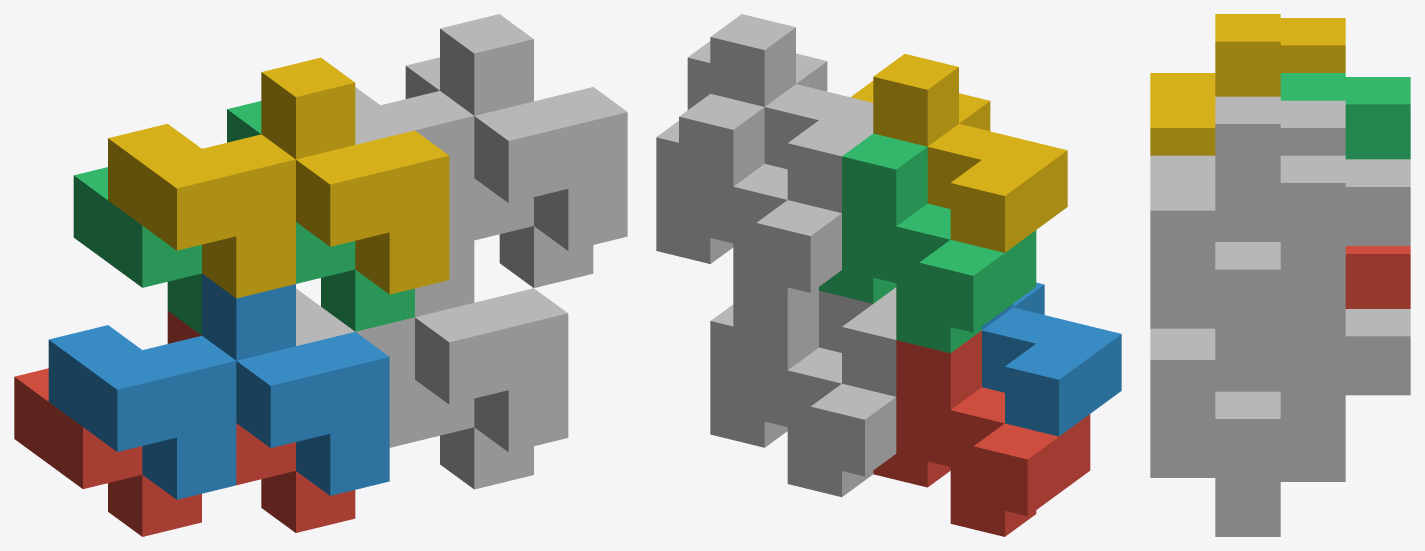
File: tiling.obj
The picture shows the model from 3 angles, left to right: view 1: azimuth 30°, elevation 25°; view 2: azimuth 150°, elevation 25°; view 3: azimuth 270°, elevation 25°; orthographic projection. The views are drawn at different scales.
Visible parts, largest first — view 1: copy_1_domain_4, copy_1_domain_2, copy_1_domain_8, copy_1_domain_6, copy_1_domain_1, copy_1_domain_3, copy_1_domain_7, copy_1_domain_5; view 2: copy_1_domain_7, copy_1_domain_3, copy_1_domain_5, copy_1_domain_1, copy_1_domain_4, copy_1_domain_8, copy_1_domain_2, copy_1_domain_6; view 3: copy_1_domain_7, copy_1_domain_5, copy_1_domain_8, copy_1_domain_4, copy_1_domain_6, copy_1_domain_3, copy_1_domain_1.
Part boxes in pixels (x1,y1,x2,y2): copy_1_domain_4: [108, 57, 449, 298]; copy_1_domain_2: [48, 273, 389, 499]; copy_1_domain_8: [355, 14, 627, 250]; copy_1_domain_6: [296, 240, 568, 452]; copy_1_domain_1: [14, 311, 355, 536]; copy_1_domain_3: [73, 101, 414, 335]; copy_1_domain_7: [405, 57, 593, 287]; copy_1_domain_5: [415, 380, 533, 489]; copy_1_domain_7: [656, 93, 841, 313]; copy_1_domain_3: [819, 133, 1036, 353]; copy_1_domain_5: [710, 291, 896, 496]; copy_1_domain_1: [873, 330, 1090, 536]; copy_1_domain_4: [851, 54, 1067, 252]; copy_1_domain_8: [687, 14, 873, 212]; copy_1_domain_2: [982, 282, 1121, 436]; copy_1_domain_6: [819, 287, 896, 396]; copy_1_domain_7: [1215, 155, 1410, 387]; copy_1_domain_5: [1215, 309, 1410, 536]; copy_1_domain_8: [1150, 96, 1345, 328]; copy_1_domain_4: [1150, 14, 1345, 155]; copy_1_domain_6: [1150, 328, 1280, 477]; copy_1_domain_3: [1280, 73, 1410, 159]; copy_1_domain_1: [1345, 246, 1410, 308].
Size of the model in its own units: 8 by 7 by 4.
